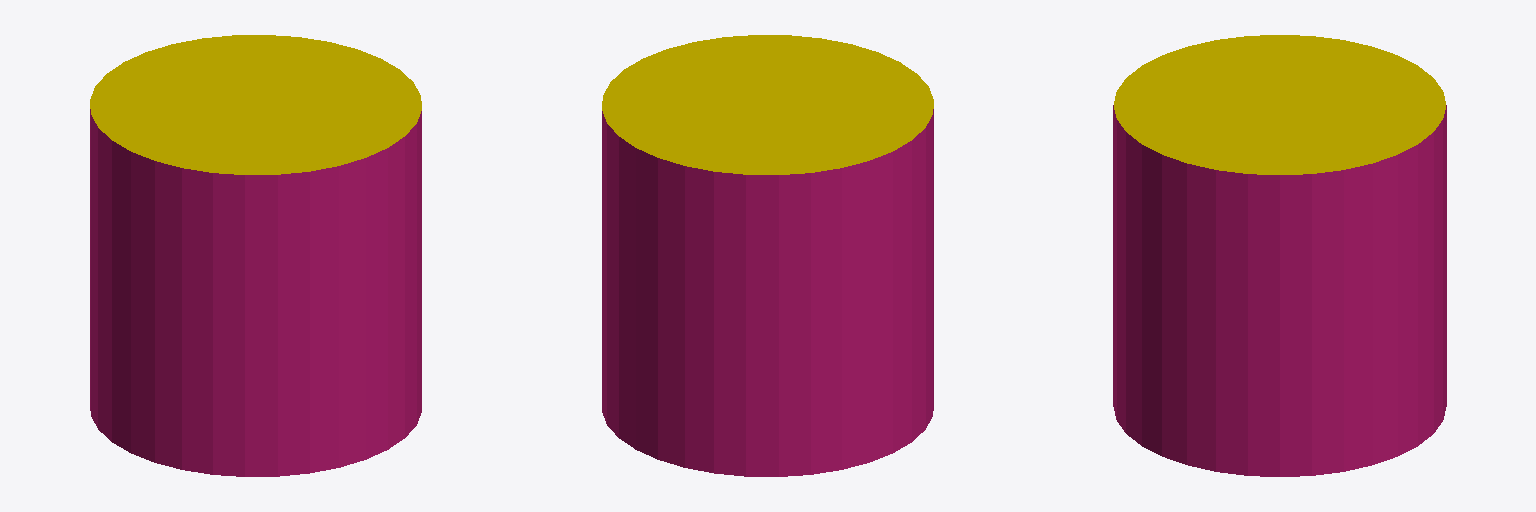
File: Tabung.obj
3 renders of one model, left to right at view 1: azimuth 30°, elevation 25°; view 2: azimuth 150°, elevation 25°; view 3: azimuth 270°, elevation 25°, orthographic.
Parts seen in each view (by area): view 1: Cylinder; view 2: Cylinder; view 3: Cylinder.
Part boxes in pixels (bbox=[...]): Cylinder: bbox=[90, 35, 421, 476]; Cylinder: bbox=[602, 35, 933, 476]; Cylinder: bbox=[1113, 35, 1446, 476].
Bounding box in the file's own units: 2 × 2 × 2.